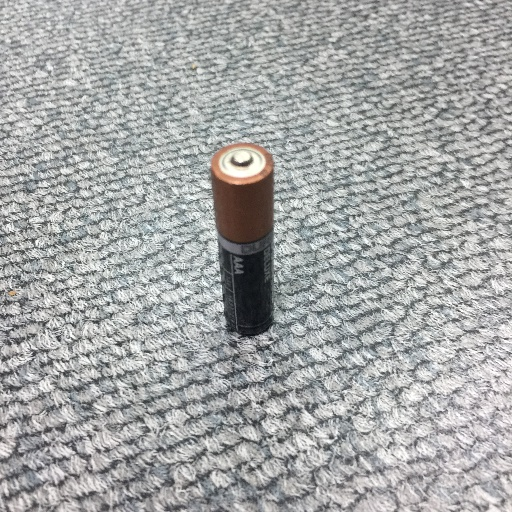Battery_0: (206, 137, 286, 347)
